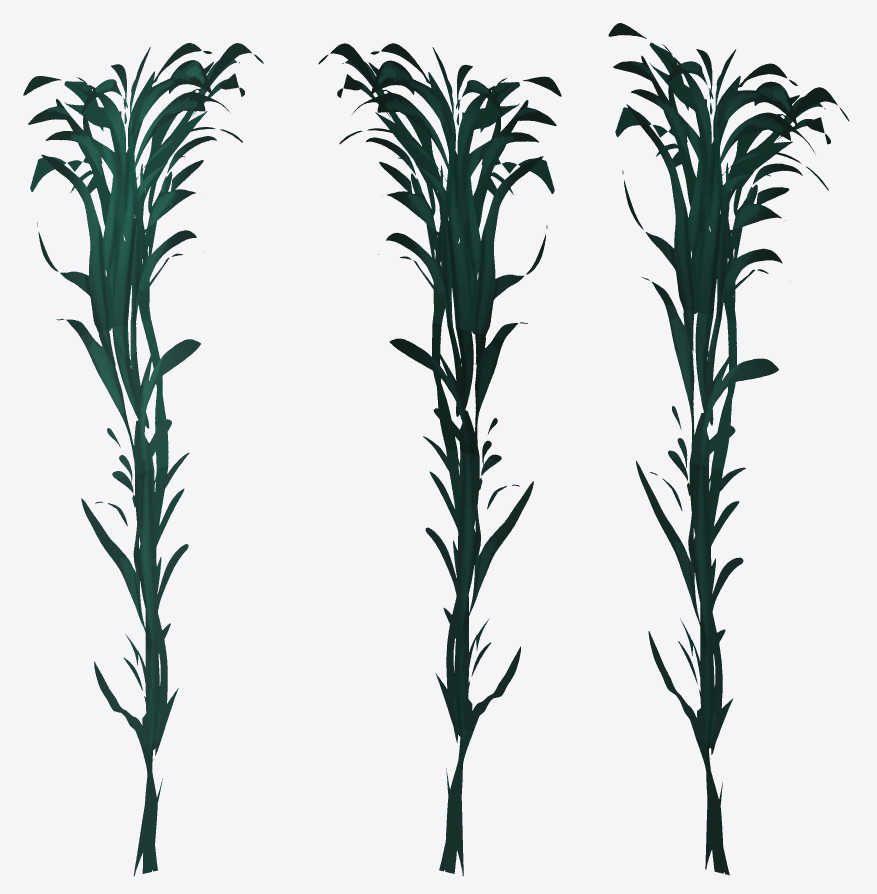
The model's file is Kelp3.fbx.
The picture shows the model from 3 angles, left to right: view 1: azimuth 30°, elevation 25°; view 2: azimuth 150°, elevation 25°; view 3: azimuth 330°, elevation 25°; orthographic projection.
Visible parts, largest first — view 1: Kelp 3; view 2: Kelp 3; view 3: Kelp 3.
Part boxes in pixels (x1,y1,x2,y2): Kelp 3: [23, 43, 263, 876]; Kelp 3: [318, 43, 561, 876]; Kelp 3: [608, 23, 849, 875].
Bounding box in the file's own units: 817 × 2439 × 82.74.
1 material, 1 textured.
